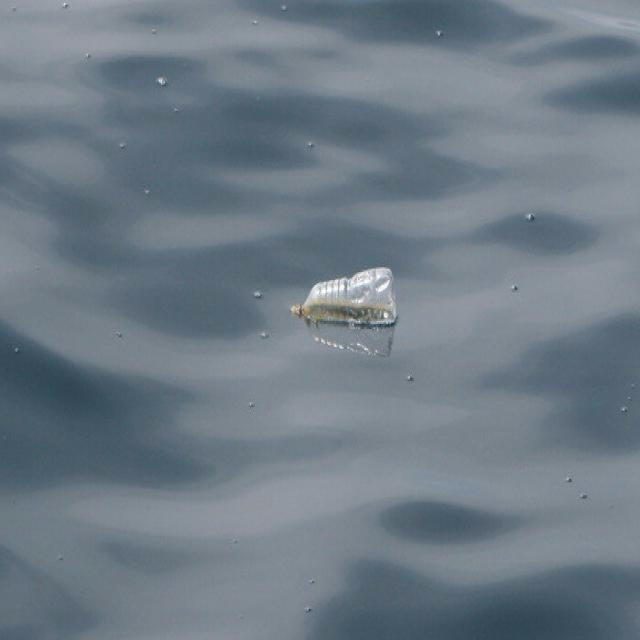Plastic: (287, 262, 400, 332)
